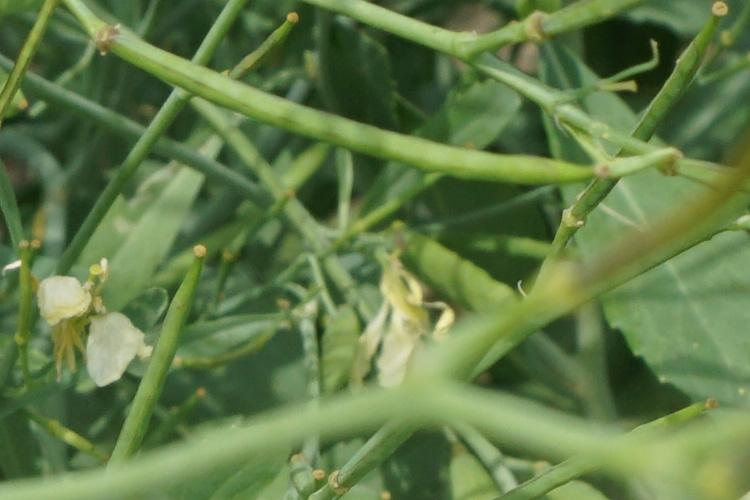pod: (286, 119, 625, 206), (596, 22, 735, 222), (543, 377, 732, 488), (132, 236, 213, 427), (204, 10, 343, 121), (13, 223, 48, 391)
